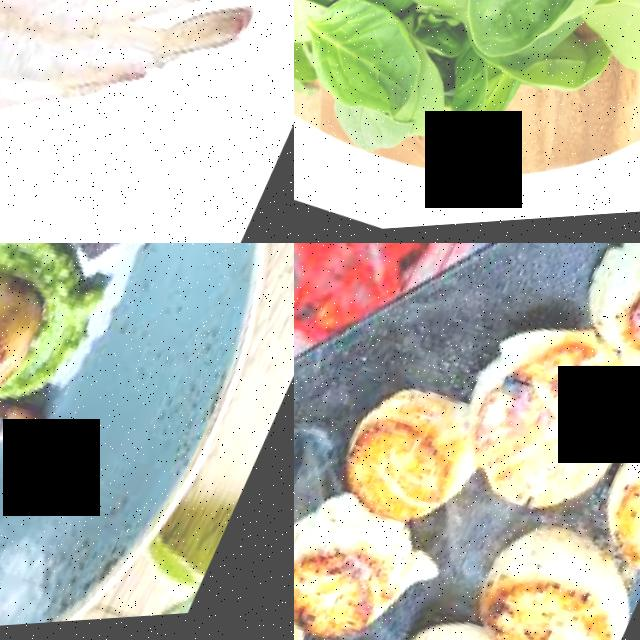sea scallops: (453, 319, 640, 536), (294, 484, 448, 640), (326, 376, 477, 532), (466, 511, 640, 640), (577, 243, 640, 397)
shrimp: (0, 0, 249, 84)
spinach: (296, 0, 446, 125), (455, 0, 619, 75)
